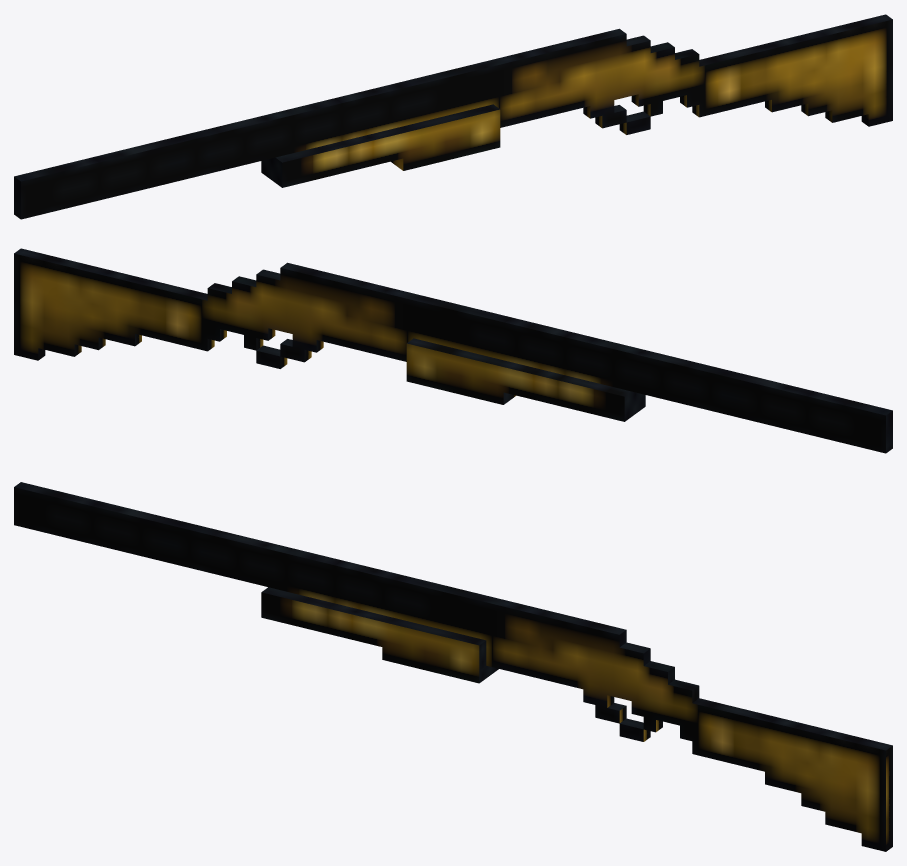
Rendered from NOVA_GOLD.glb.
The picture shows the model from 3 angles, top to bottom: view 1: azimuth 30°, elevation 25°; view 2: azimuth 150°, elevation 25°; view 3: azimuth 330°, elevation 25°; orthographic projection.
Parts seen in each view (by area): view 1: NOVA_GOLD; view 2: NOVA_GOLD; view 3: NOVA_GOLD.
Part boxes in pixels (left/top/right/bottom): NOVA_GOLD: left=14, top=14, right=892, bottom=219; NOVA_GOLD: left=14, top=248, right=892, bottom=453; NOVA_GOLD: left=14, top=482, right=892, bottom=851.
Bounding box in the file's own units: 2.01 × 0.3348 × 0.0837.
Materials: 1 (1 with a texture image).
